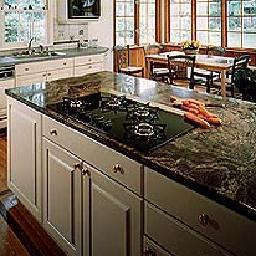Electrodomestico: (48, 95, 195, 157)
